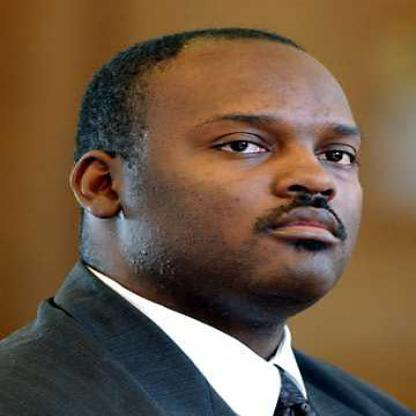face: (118, 29, 396, 308)
